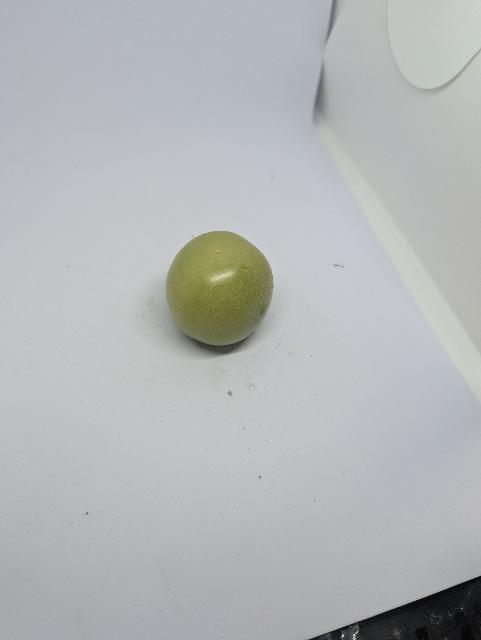green: (164, 228, 276, 350)
